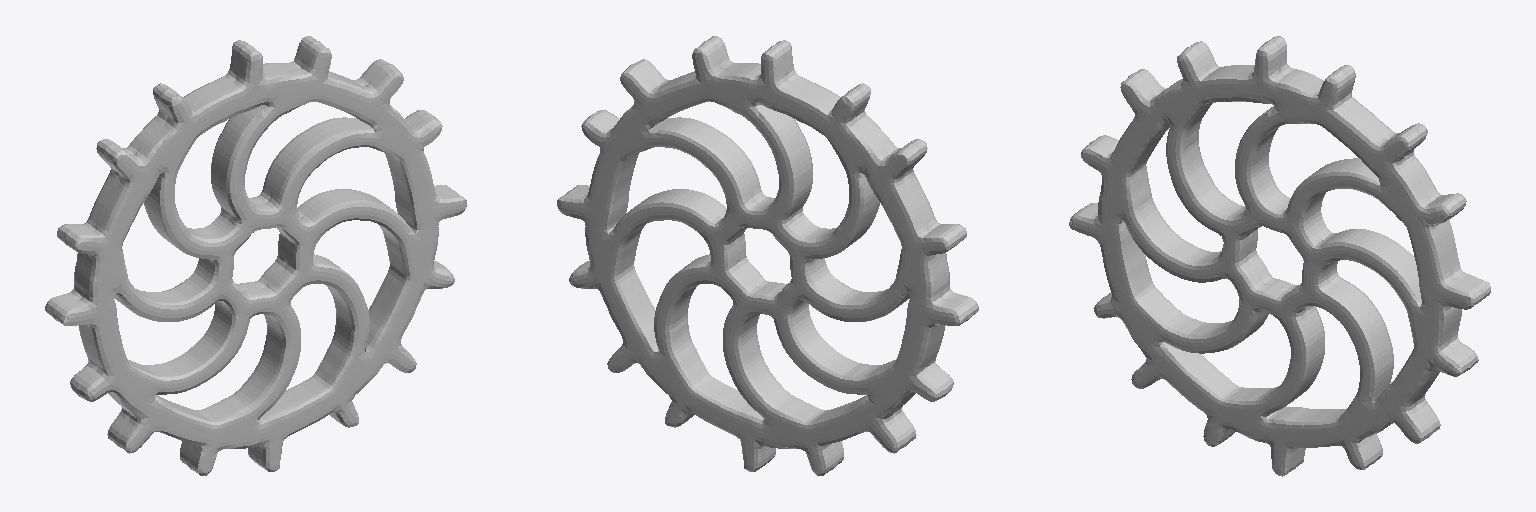
The model's file is Engrane 1.OBJ.
3 views of the same model, side by side, from view 1: azimuth 30°, elevation 25°; view 2: azimuth 150°, elevation 25°; view 3: azimuth 330°, elevation 25° (orthographic).
Parts seen in each view (by area): view 1: Group27772; view 2: Group27772; view 3: Group27772.
Boxes of the visible parts, <box> form: Group27772: <box>45,36,466,475</box>; Group27772: <box>557,36,978,475</box>; Group27772: <box>1069,36,1490,476</box>.
Bounding box in the file's own units: 1.78 × 1.78 × 0.1538.